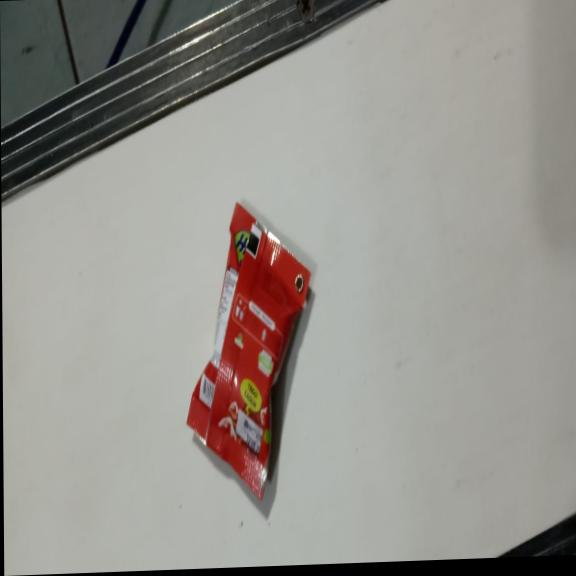Plastik: (185, 196, 315, 503)
